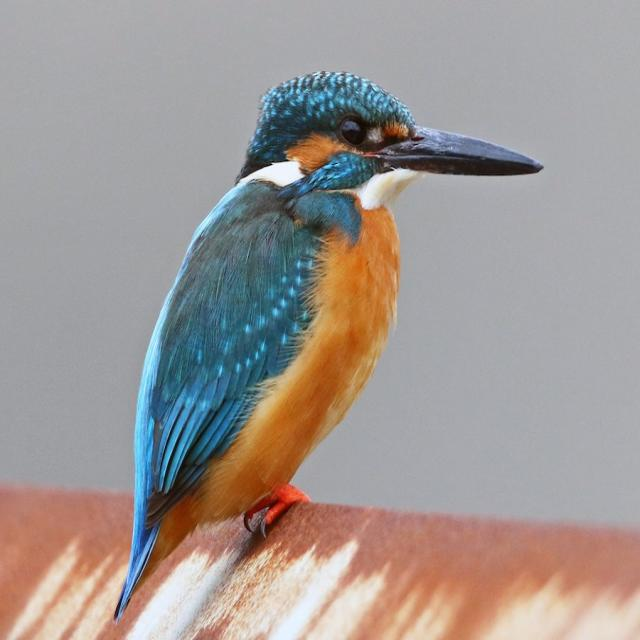kingfisher: (82, 35, 568, 627)
